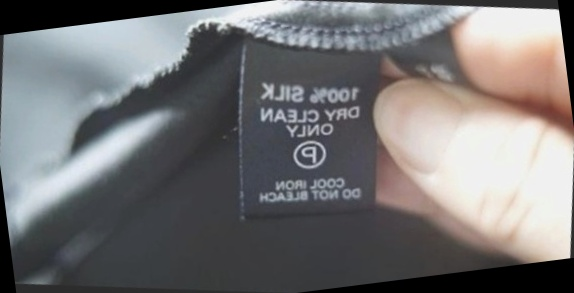dry_clean_any_solvent_except_trichloroethylene: (288, 134, 330, 174)
